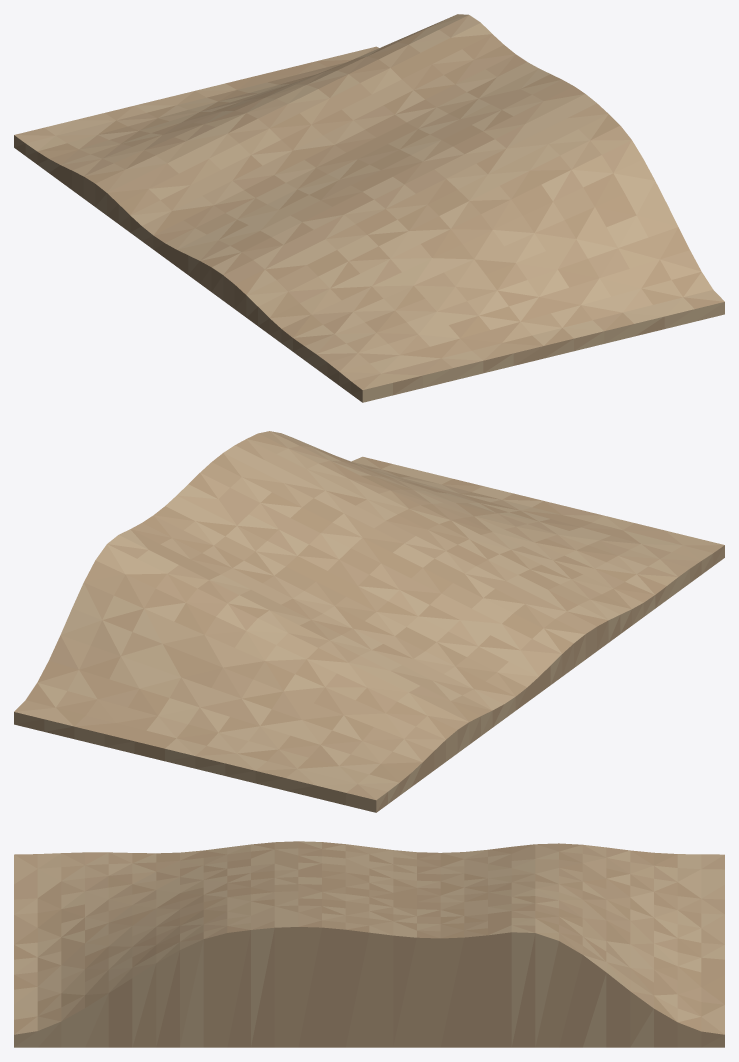
Rendered from 04_sidehill_left.glb.
3 renders of one model, top to bottom at view 1: azimuth 30°, elevation 25°; view 2: azimuth 150°, elevation 25°; view 3: azimuth 270°, elevation 25°, orthographic.
Parts seen in each view (by area): view 1: ObstacleMesh; view 2: ObstacleMesh; view 3: ObstacleMesh.
Part boxes in pixels (x1=…): ObstacleMesh: x1=14, y1=14, x2=724, y2=402; ObstacleMesh: x1=14, y1=431, x2=724, y2=812; ObstacleMesh: x1=14, y1=841, x2=724, y2=1047.
Size of the model in its own units: 6 by 1.87 by 10.
